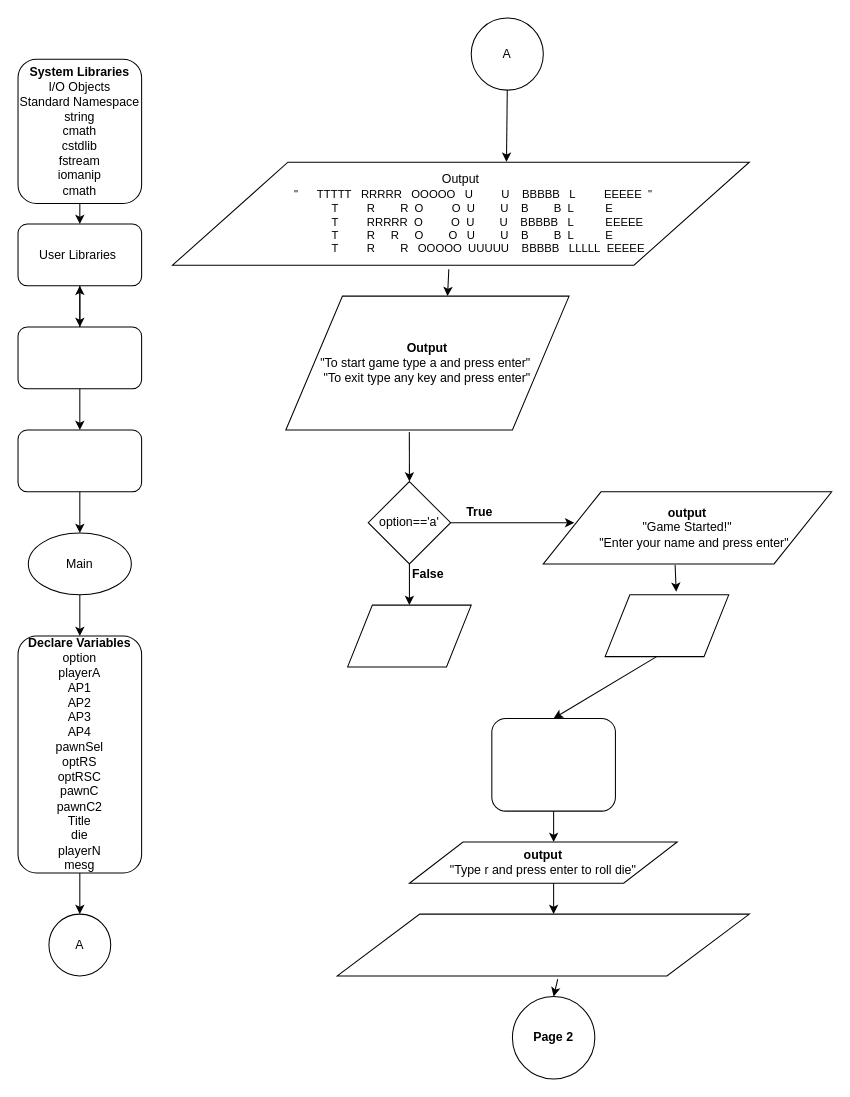
Image size: 850x1097. Some labels were removed from this diagram. The box of each missing label's shape, as (x1, y1, x2, y2) in pixels:
Function Prototypes none: (17, 429, 142, 492)
Global Constants RndUp: (17, 326, 142, 389)
Initialize Out of Loop playerA<116: (491, 717, 615, 811)
input playerN: (604, 594, 729, 657)
output "Type s and press enter to see players' pieces locations": (336, 913, 749, 976)
output Input Invalid: (347, 604, 471, 667)
